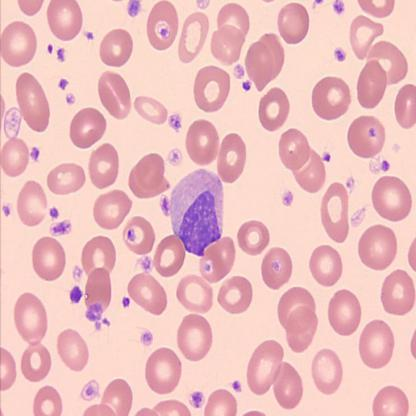Metamyelocyte: (168, 166, 226, 258)
